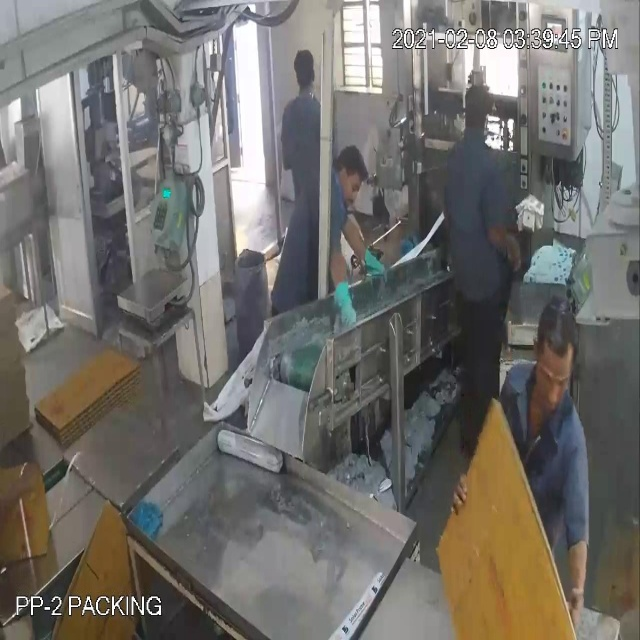Guantes: (319, 248, 362, 342)
Sin_guantes: (557, 503, 594, 640)
